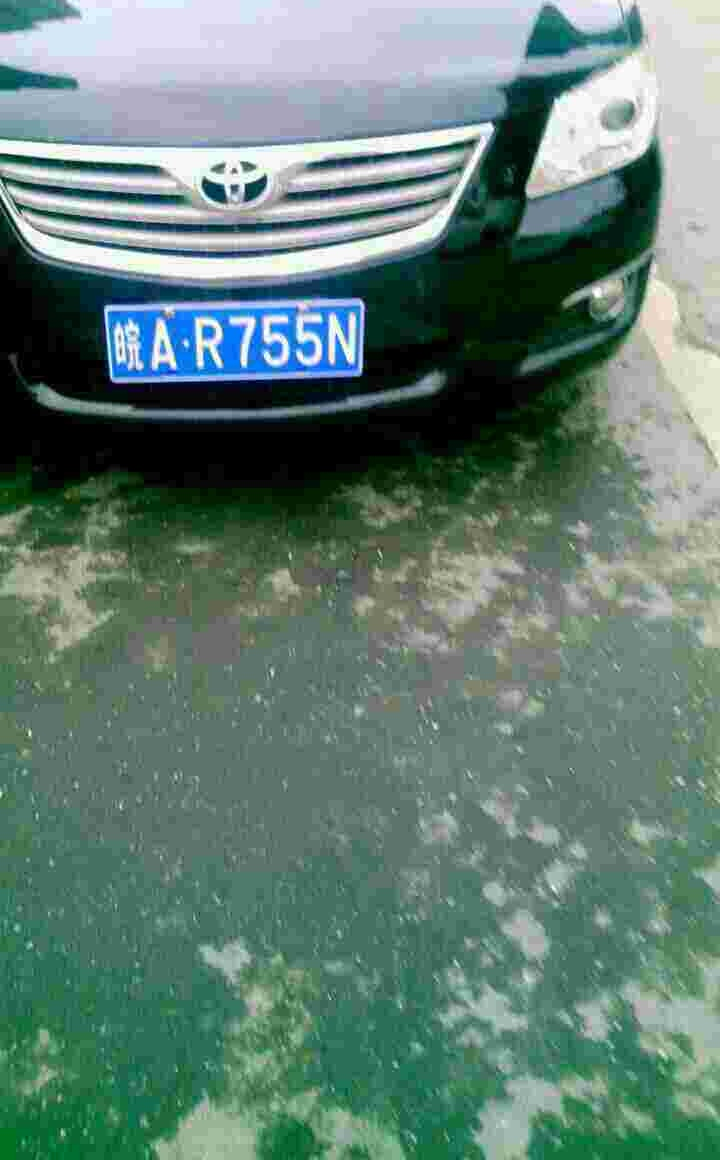license_plate: (92, 298, 367, 389)
